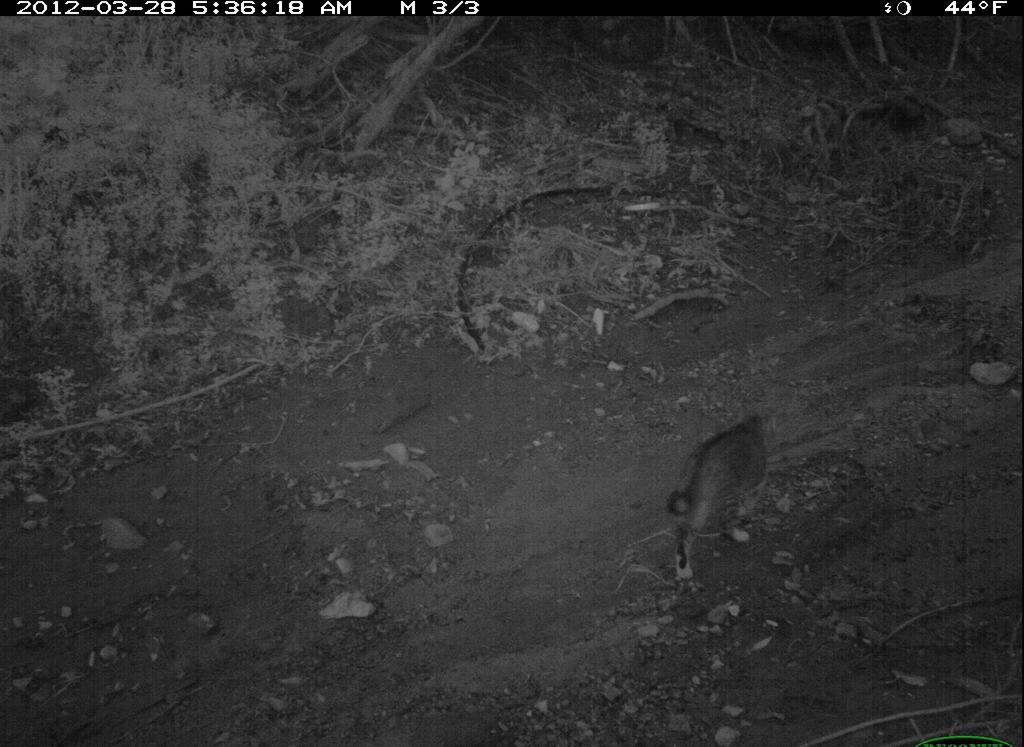cat: (670, 411, 781, 587)
